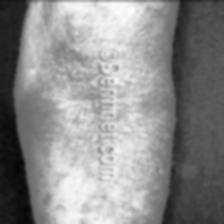Non-Cancerous Skin Condition: (39, 0, 167, 224)
